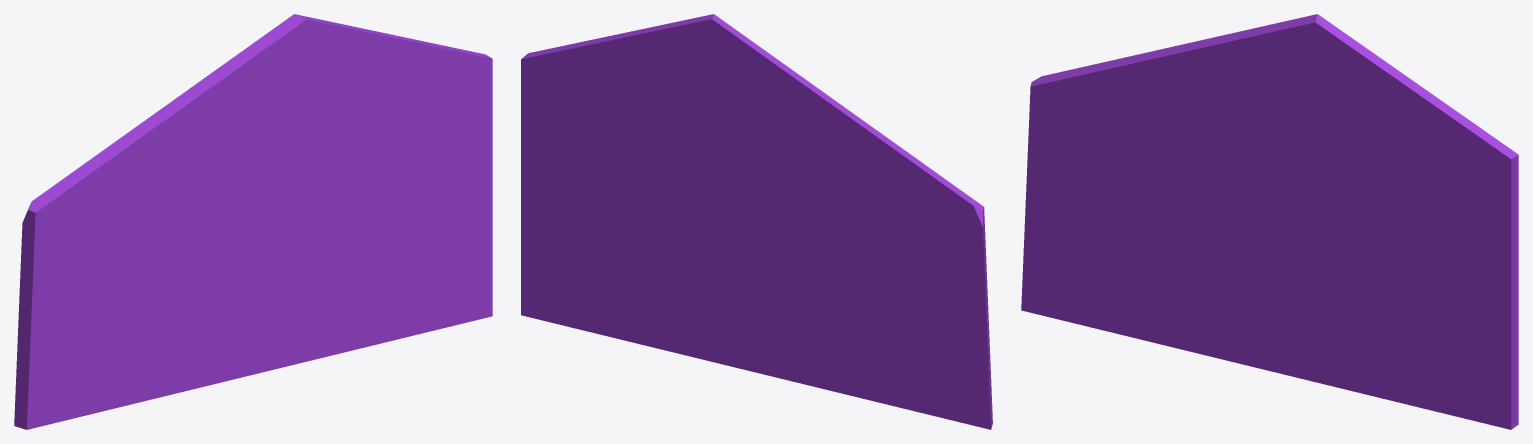
Rendered from Glass_79_16_chunks.fbx.
3 views of the same model, side by side, from view 1: azimuth 30°, elevation 25°; view 2: azimuth 150°, elevation 25°; view 3: azimuth 330°, elevation 25° (orthographic). The views are drawn at different scales.
Visible parts, largest first — view 1: Glass_79_16_6, Glass_79_16_1, Glass_79_16_10, Glass_79_16_8, Glass_79_16_4, Glass_79_16_3, Glass_79_16_9, Glass_79_16_11, Glass_79_16_7, Glass_79_16_5, Glass_79_16_12, Glass_79_16_0; view 2: Glass_79_16_6, Glass_79_16_8, Glass_79_16_10, Glass_79_16_1, Glass_79_16_3, Glass_79_16_9, Glass_79_16_4, Glass_79_16_7, Glass_79_16_12, Glass_79_16_11, Glass_79_16_5, Glass_79_16_2; view 3: Glass_79_16_6, Glass_79_16_10, Glass_79_16_1, Glass_79_16_8, Glass_79_16_3, Glass_79_16_4, Glass_79_16_9, Glass_79_16_7, Glass_79_16_11, Glass_79_16_5, Glass_79_16_12, Glass_79_16_0.
Boxes of the visible parts, x1,y1,x2,y2 form: Glass_79_16_6: (300,183,492,362); Glass_79_16_1: (14,212,126,429); Glass_79_16_10: (294,49,492,193); Glass_79_16_8: (133,263,312,403); Glass_79_16_4: (26,106,207,242); Glass_79_16_3: (118,172,223,407); Glass_79_16_9: (166,71,305,203); Glass_79_16_11: (213,14,343,126); Glass_79_16_7: (307,150,492,251); Glass_79_16_5: (202,191,324,267); Glass_79_16_12: (307,16,460,107); Glass_79_16_0: (205,164,248,220); Glass_79_16_6: (521,191,704,359); Glass_79_16_8: (692,244,877,402); Glass_79_16_10: (521,45,714,194); Glass_79_16_1: (896,207,992,429); Glass_79_16_3: (783,172,898,406); Glass_79_16_9: (703,76,844,209); Glass_79_16_4: (805,107,983,239); Glass_79_16_7: (521,153,723,260); Glass_79_16_12: (546,21,718,126); Glass_79_16_11: (677,14,805,107); Glass_79_16_5: (710,197,799,247); Glass_79_16_2: (883,236,923,353); Glass_79_16_6: (1309,276,1518,429); Glass_79_16_10: (1303,126,1518,255); Glass_79_16_1: (1021,87,1125,333); Glass_79_16_8: (1133,226,1321,380); Glass_79_16_3: (1118,132,1227,337); Glass_79_16_4: (1030,44,1210,163); Glass_79_16_9: (1177,33,1314,198); Glass_79_16_7: (1316,203,1518,292); Glass_79_16_11: (1217,14,1354,134); Glass_79_16_5: (1206,186,1333,285); Glass_79_16_12: (1330,23,1491,135); Glass_79_16_0: (1208,122,1254,191).
Bounding box in the file's own units: 1026 × 715 × 27.2.
